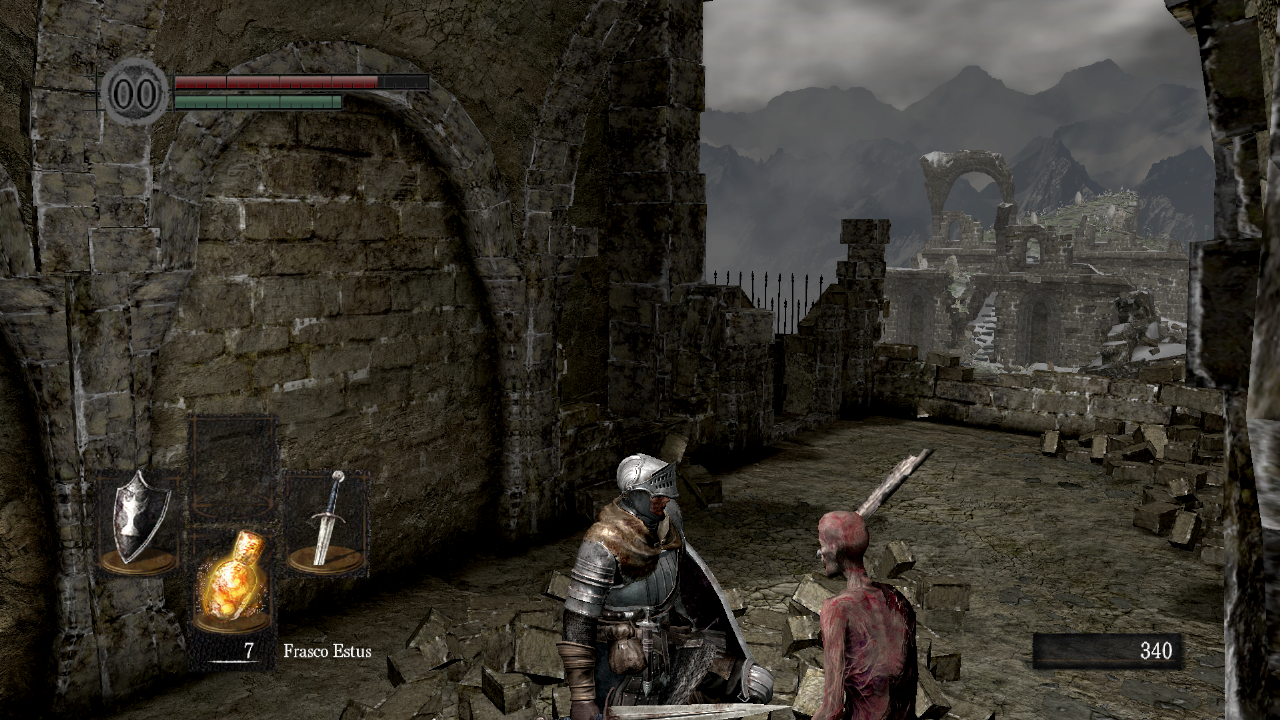hollow: (808, 447, 936, 720)
player: (555, 452, 798, 720)
